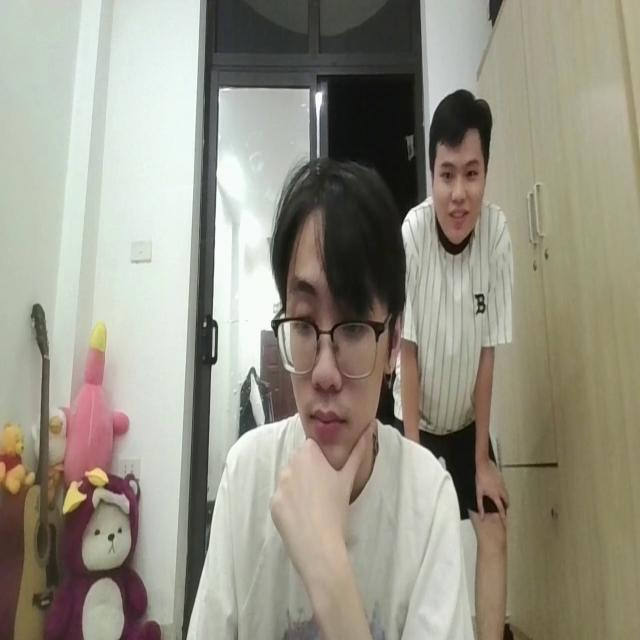extra_person: (402, 89, 518, 490)
student: (188, 151, 464, 640)
